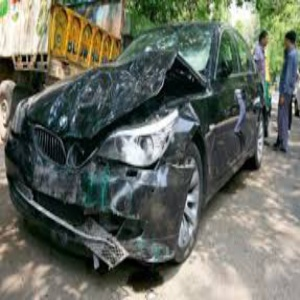bonnet: (62, 53, 184, 113)
bumper: (95, 161, 196, 266)
